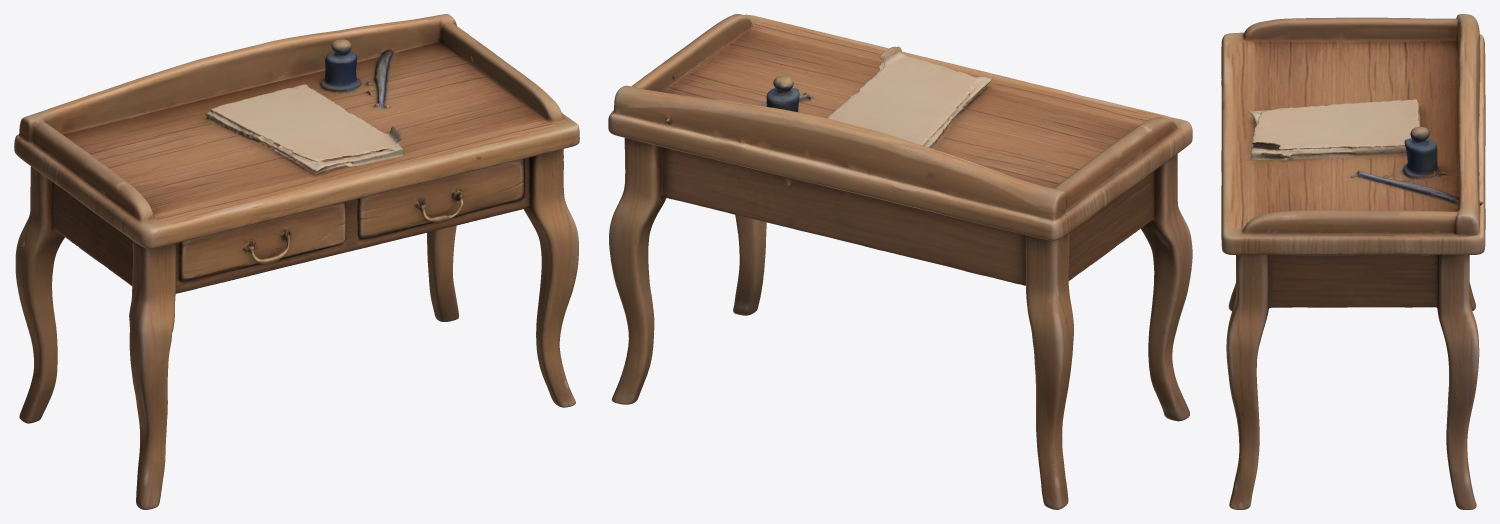
The model's file is study-desk.glb.
3 renders of one model, left to right at view 1: azimuth 30°, elevation 25°; view 2: azimuth 150°, elevation 25°; view 3: azimuth 270°, elevation 25°, orthographic. The views are drawn at different scales.
Bounding box in the file's own units: 2 × 1.43 × 1.08.
1 material, 1 textured.
